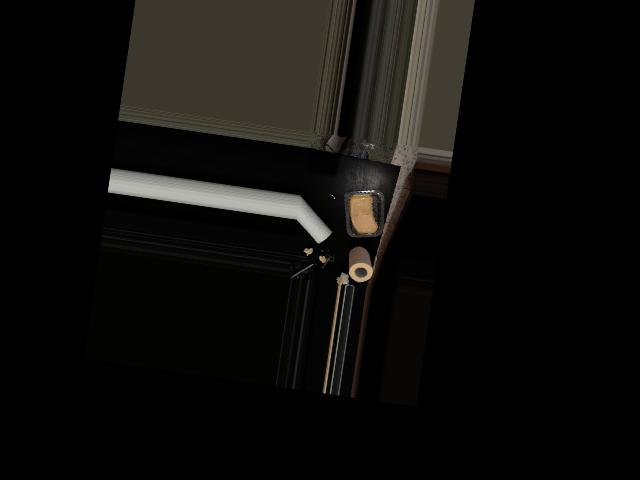cheese: (340, 185, 385, 240)
